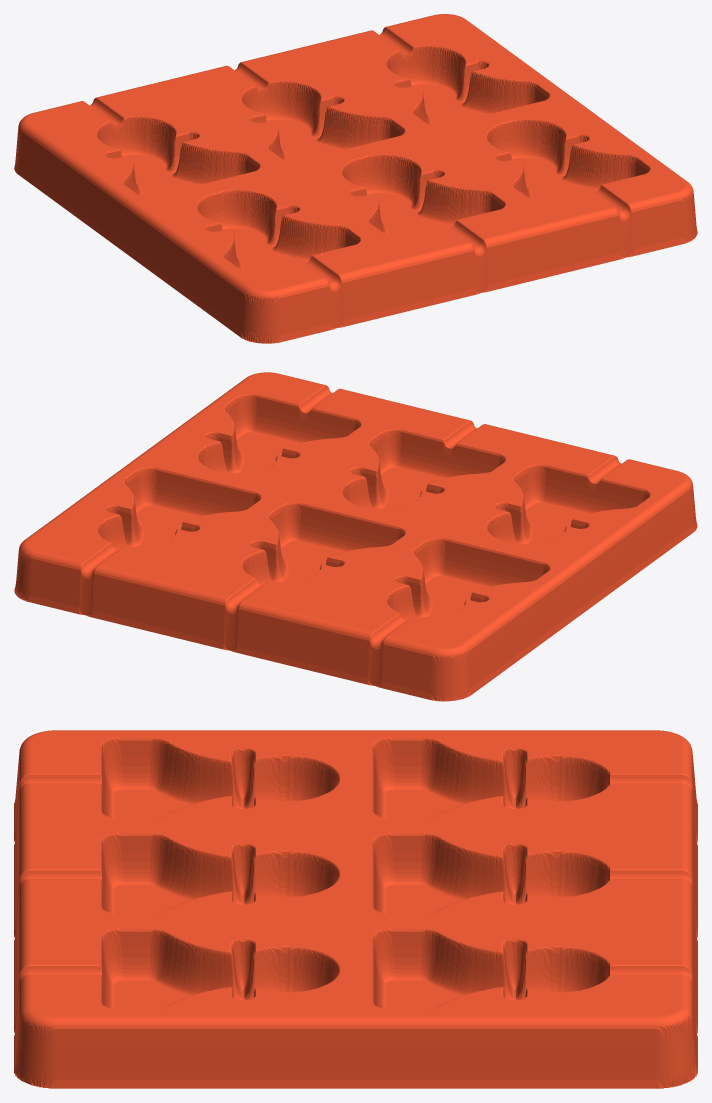
Rendered from mold.glb.
3 views of the same model, one above another, from view 1: azimuth 30°, elevation 25°; view 2: azimuth 150°, elevation 25°; view 3: azimuth 270°, elevation 25° (orthographic). The views are drawn at different scales.
Visible parts, largest first — view 1: geometry_0; view 2: geometry_0; view 3: geometry_0.
Boxes of the visible parts, x1,y1,x2,y2 form: geometry_0: (14, 14, 697, 343); geometry_0: (14, 372, 697, 701); geometry_0: (14, 730, 697, 1088).
Size of the model in its own units: 0.1529 by 0.0155 by 0.1477.
